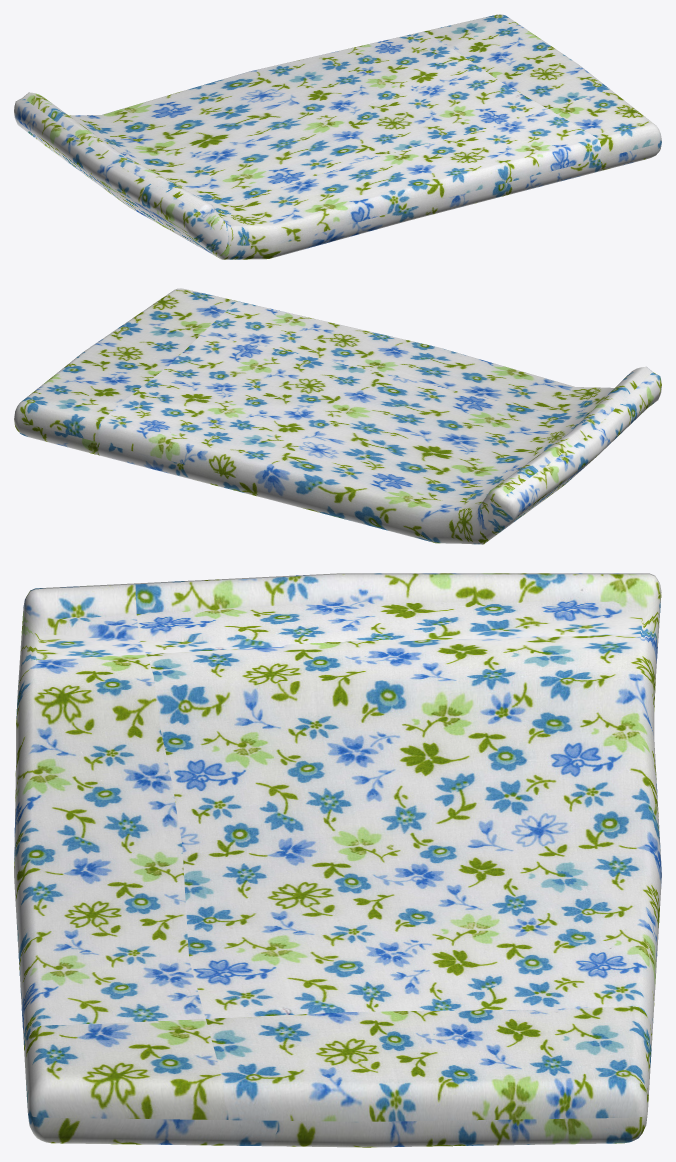
The model's file is mattress_bent.glb.
The picture shows the model from 3 angles, top to bottom: view 1: azimuth 30°, elevation 25°; view 2: azimuth 150°, elevation 25°; view 3: azimuth 270°, elevation 25°; orthographic projection. The views are drawn at different scales.
Visible parts, largest first — view 1: MattressBent; view 2: MattressBent; view 3: MattressBent.
Boxes of the visible parts, <box> form: MattressBent: <box>14,14,661,259</box>; MattressBent: <box>14,288,661,544</box>; MattressBent: <box>14,573,661,1147</box>.
Size of the model in its own units: 1.85 by 0.2479 by 1.08.
Materials: 1 (1 with a texture image).
